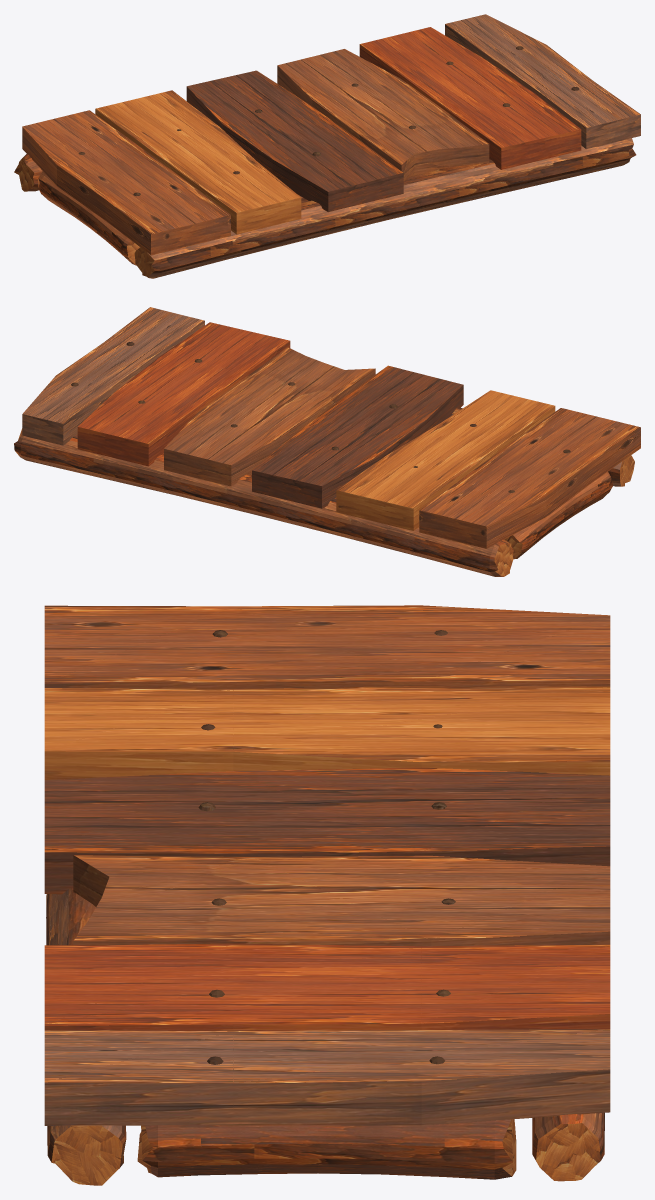
Rendered from floor_half__plank_root.glb.
The picture shows the model from 3 angles, top to bottom: view 1: azimuth 30°, elevation 25°; view 2: azimuth 150°, elevation 25°; view 3: azimuth 270°, elevation 25°; orthographic projection. The views are drawn at different scales.
Parts seen in each view (by area): view 1: model; view 2: model; view 3: model.
Part boxes in pixels (left/top/right/bottom): model: left=14, top=14, right=640, bottom=278; model: left=14, top=307, right=640, bottom=576; model: left=44, top=605, right=610, bottom=1185.
Bounding box in the file's own units: 1.98 × 0.2223 × 0.988.
18 materials, 18 textured.
